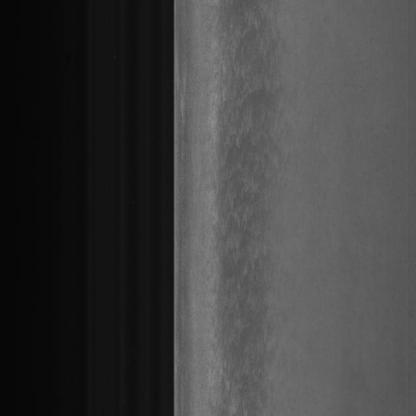silk_spot: (214, 24, 296, 380)
